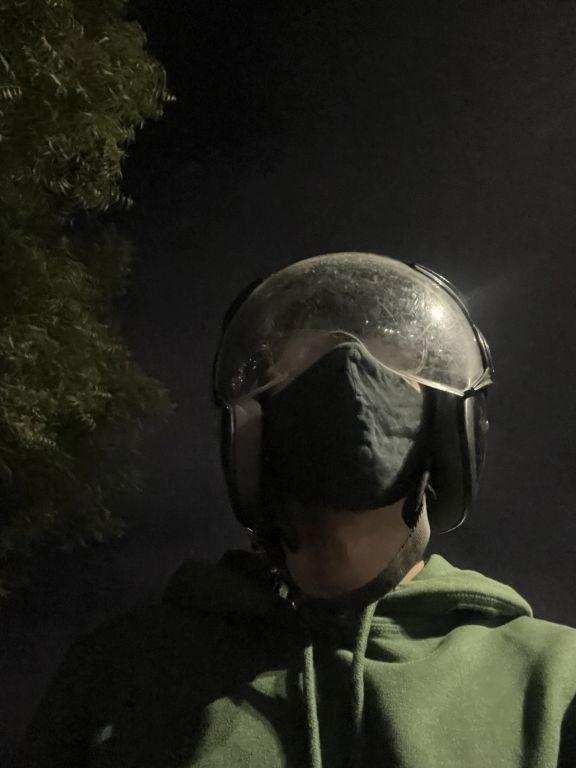helmet: (189, 237, 508, 558)
